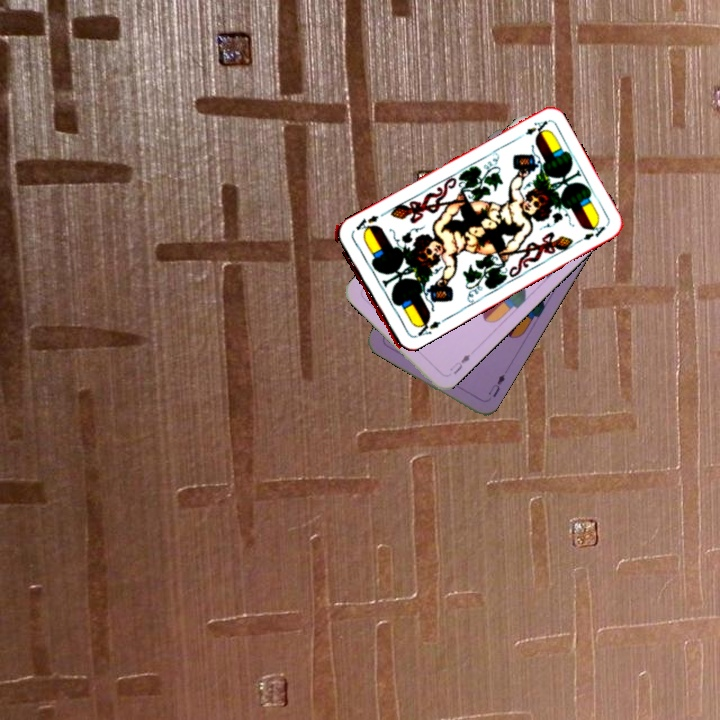EA: (405, 314, 446, 341), (512, 117, 550, 142)
EU: (445, 350, 473, 377), (484, 370, 507, 400)
